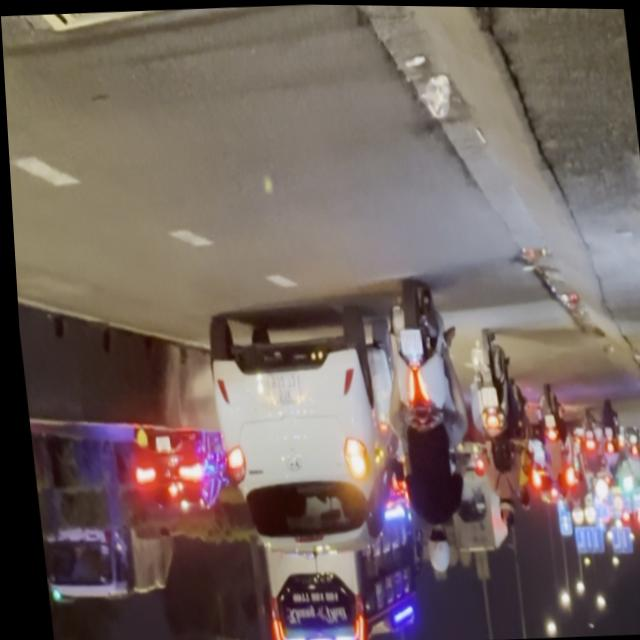helmet: (416, 525, 447, 574)
licenseplate: (369, 278, 476, 577)
nohelmet: (395, 326, 419, 355)
